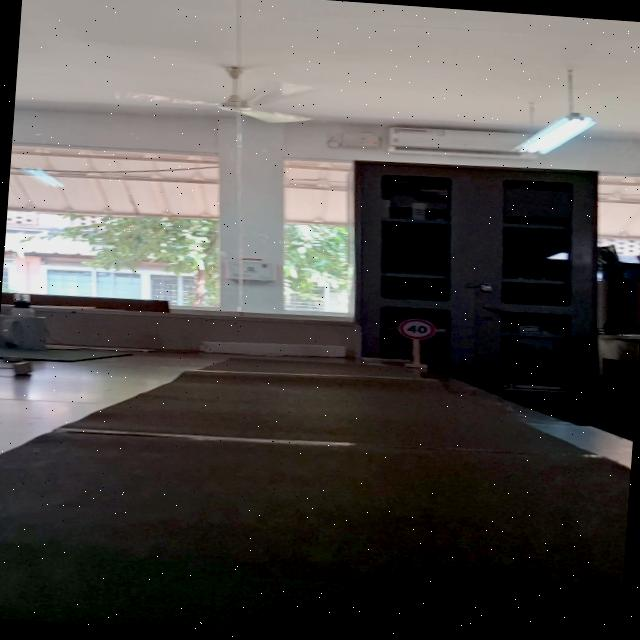Speed40: (394, 314, 438, 342)
